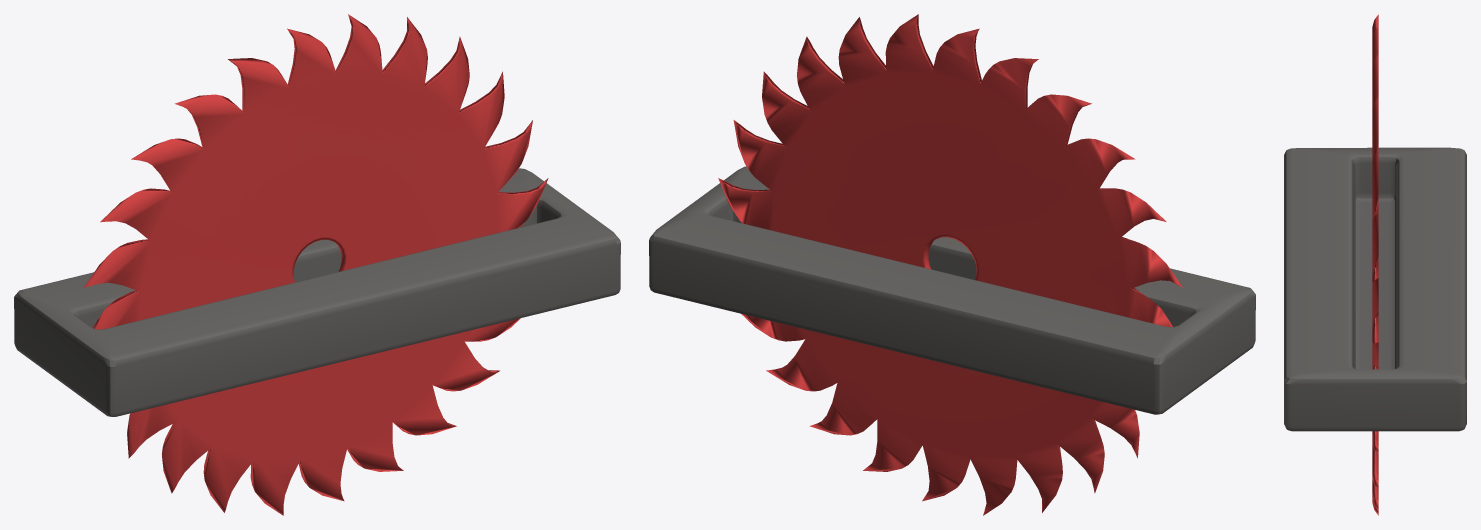
Rendered from Obstacle_Saw.fbx.
The picture shows the model from 3 angles, left to right: view 1: azimuth 30°, elevation 25°; view 2: azimuth 150°, elevation 25°; view 3: azimuth 270°, elevation 25°; orthographic projection. The views are drawn at different scales.
Parts seen in each view (by area): view 1: saw, terrain; view 2: saw, terrain; view 3: terrain, saw.
Boxes of the visible parts, box(x1,y1,x2,y2) form: saw: box(84, 14, 548, 515); terrain: box(14, 168, 620, 416); saw: box(718, 14, 1182, 515); terrain: box(649, 166, 1255, 414); terrain: box(1284, 147, 1466, 431); saw: box(1372, 14, 1378, 515).
Size of the model in its own units: 144 by 130 by 47.66.
